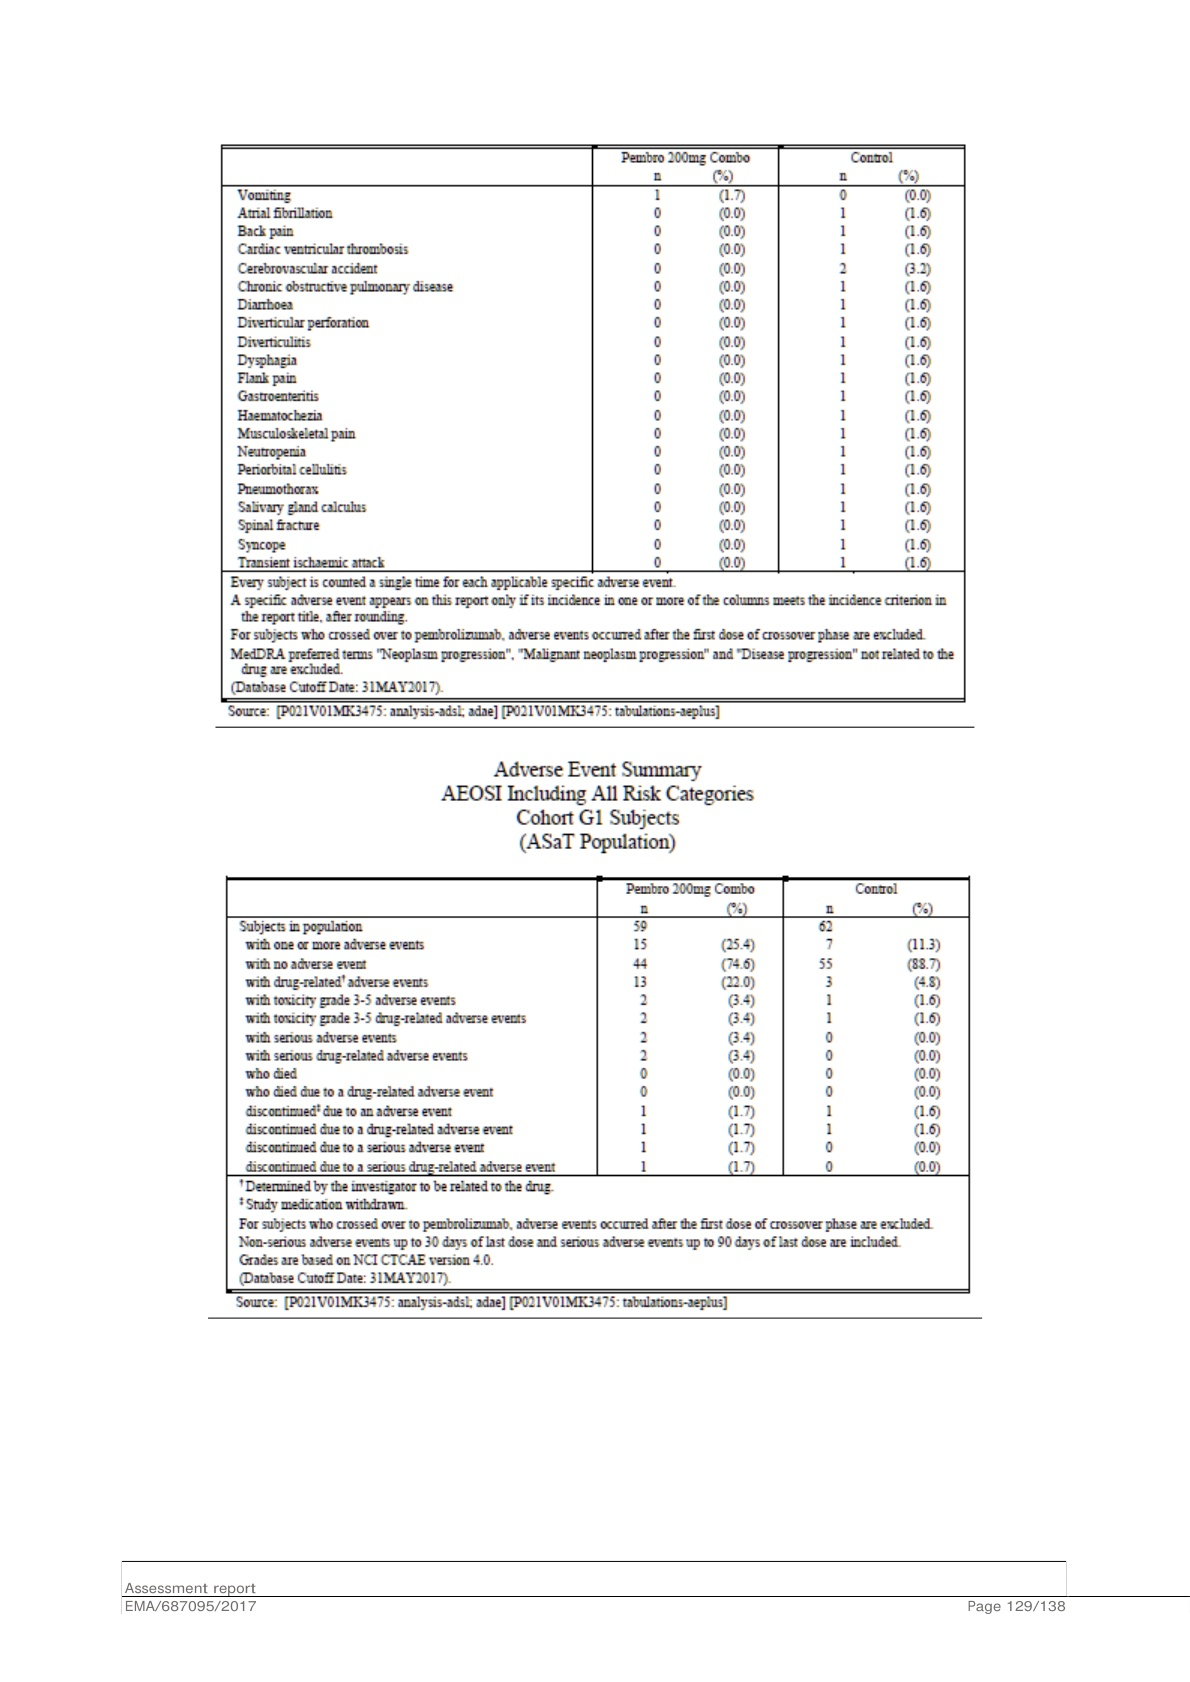partial_lined_merged_cells: (220, 142, 967, 704), (225, 874, 971, 1293)
